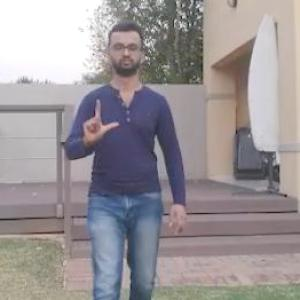land_hand: (78, 87, 127, 149)
